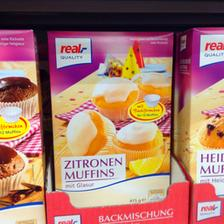Kuchen: (46, 29, 174, 203)
